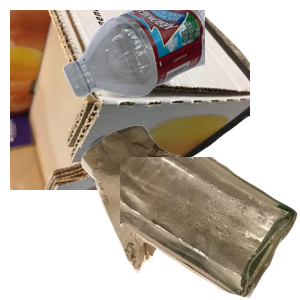cardboard: (10, 10, 250, 190)
glass: (120, 157, 300, 300)
plastic: (60, 10, 300, 100)
trash: (79, 123, 281, 300)
